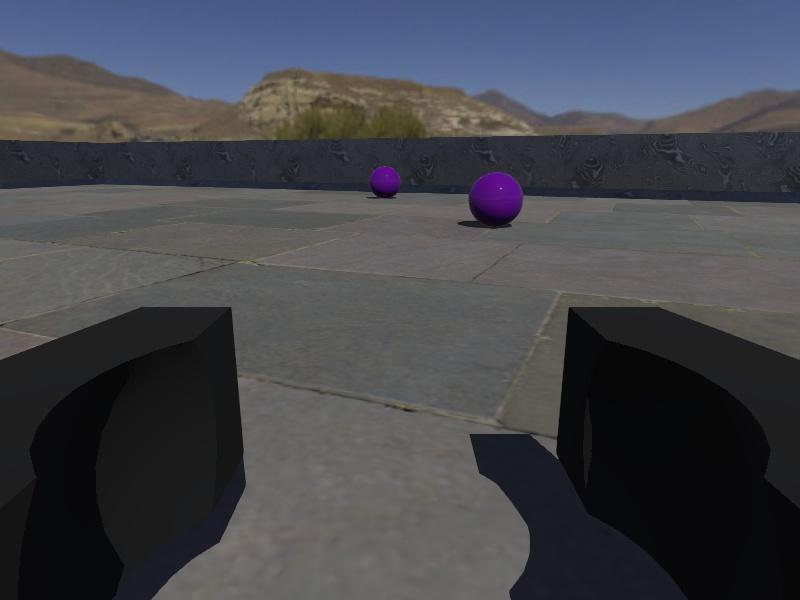violet ball: (467, 171, 525, 228), (371, 165, 402, 198)
